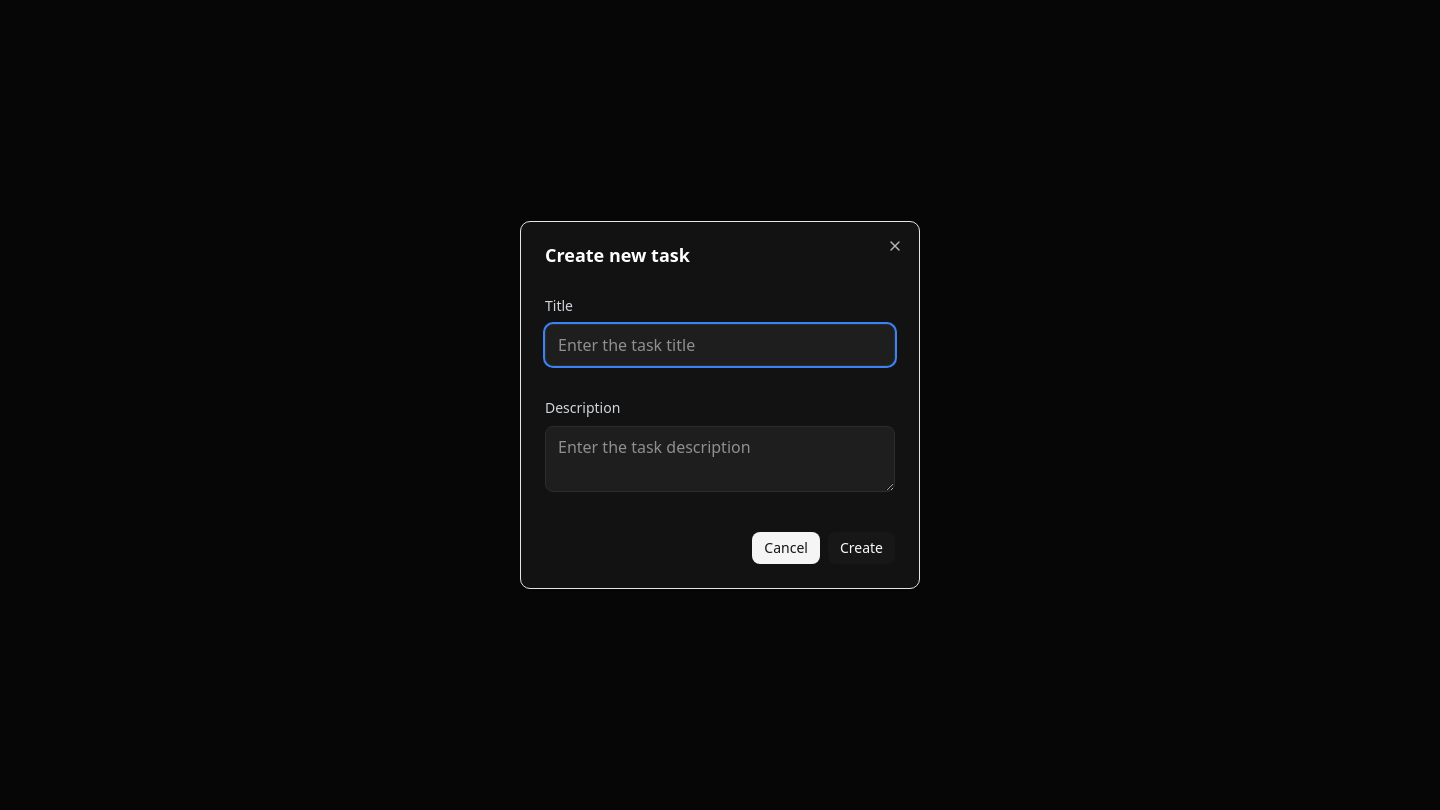
Modal component › shows error messages when submitting empty form
The image size is (1440, 810).
Click the button "Create" at [861, 548], box [828, 532, 895, 564]
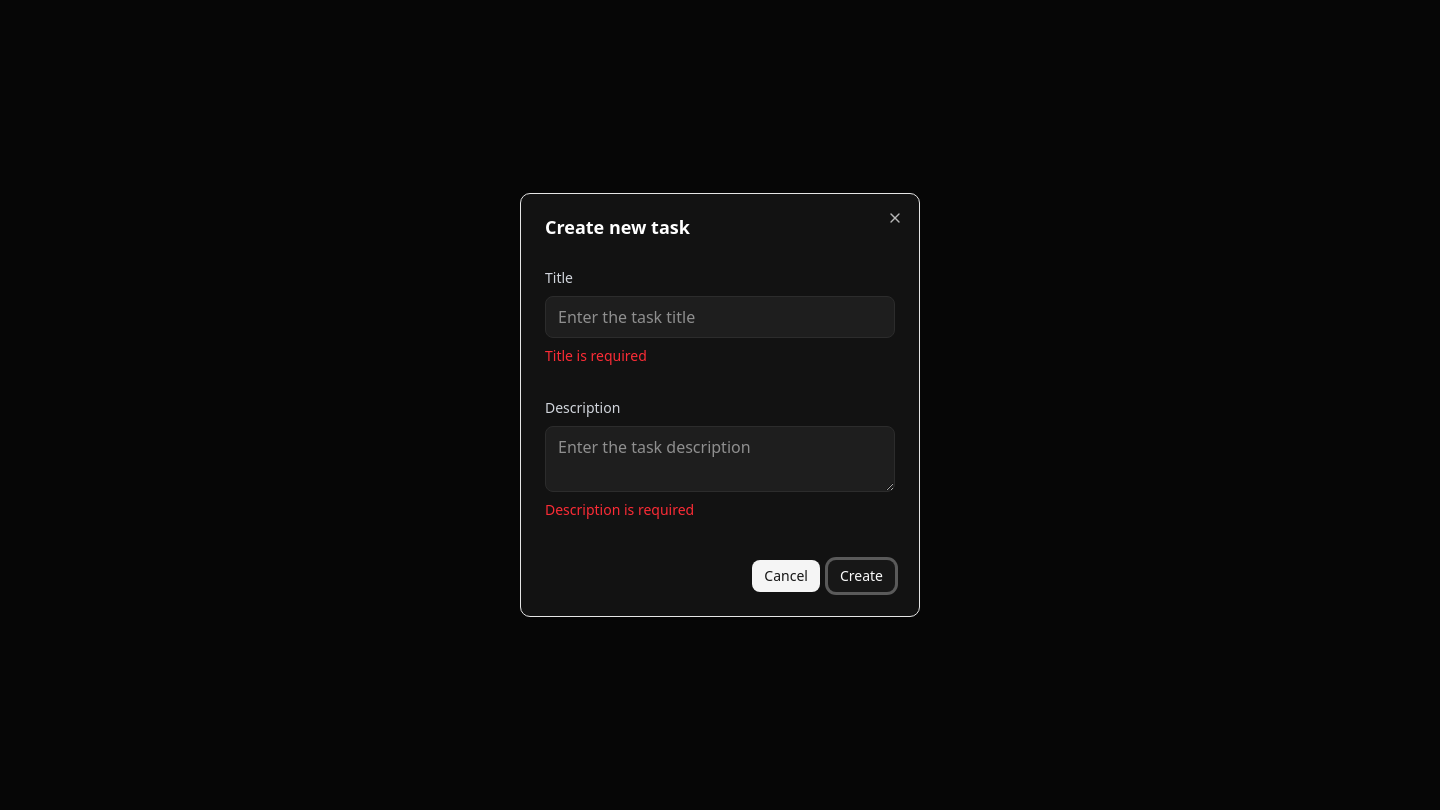
Expected: the text "Title is required" is shown, [545, 346, 647, 365]
Expected: the text "Description is required" is shown, [545, 500, 694, 519]
